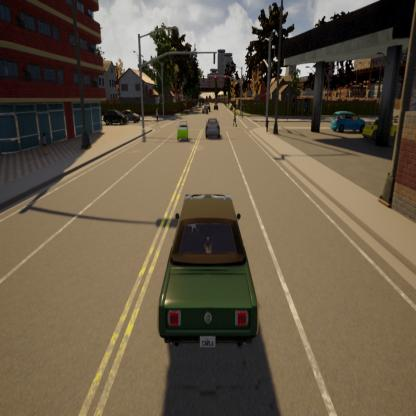Cars: (138, 180, 288, 374), (362, 106, 400, 143), (330, 104, 366, 135), (201, 108, 224, 146), (101, 103, 128, 133), (117, 102, 148, 128), (173, 113, 191, 150), (202, 95, 214, 118), (212, 94, 219, 117)
Pedestrian: (232, 104, 244, 135), (264, 112, 272, 139), (154, 103, 160, 131)
